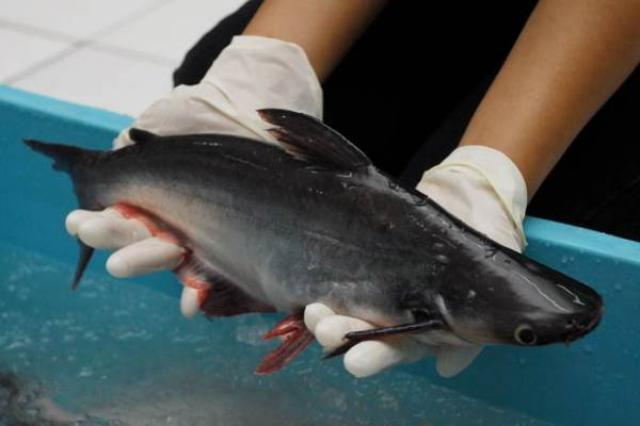Mulut: (537, 283, 621, 355)
Sirip Anal: (109, 200, 274, 332)
Sirip Dada: (318, 299, 457, 373)
Sirip Ekor: (13, 125, 115, 303)
Sirip Perut: (245, 304, 328, 388)
Sirip Punggung: (126, 99, 388, 185)
